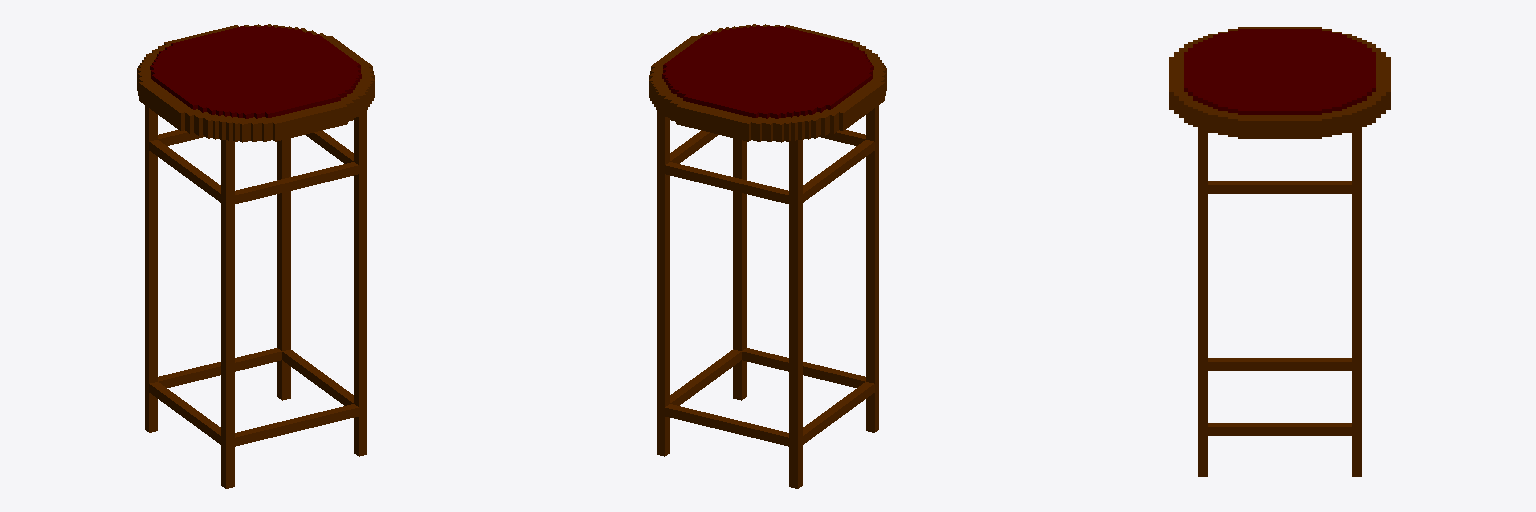
The picture shows the model from 3 angles: view 1: azimuth 30°, elevation 25°; view 2: azimuth 150°, elevation 25°; view 3: azimuth 270°, elevation 25°; orthographic projection.
Parts seen in each view (by area): view 1: object 1; view 2: object 1; view 3: object 1.
Part boxes in pixels (bbox=[...]): object 1: bbox=[137, 24, 374, 488]; object 1: bbox=[649, 24, 886, 488]; object 1: bbox=[1169, 27, 1390, 476].
Bounding box in the file's own units: 4.5 × 8.3 × 4.5.
1 materials, 1 textured.